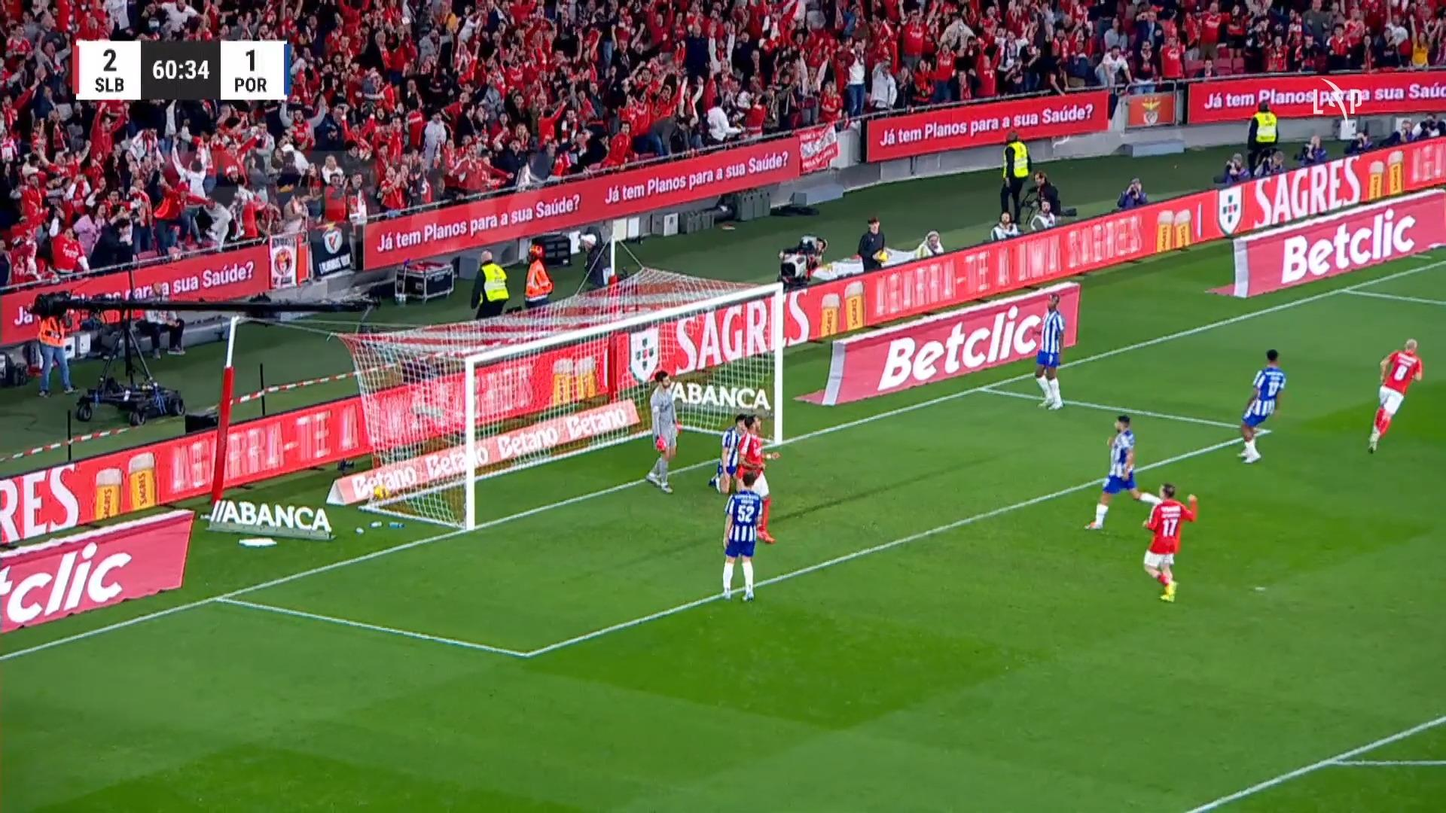ball: (373, 484, 389, 502)
goalkeeper: (645, 369, 681, 494)
player: (1084, 413, 1162, 531), (1141, 482, 1198, 601), (1366, 337, 1423, 454), (733, 413, 781, 544), (1236, 348, 1286, 464), (719, 470, 762, 601), (1032, 293, 1066, 410), (708, 413, 748, 492)
